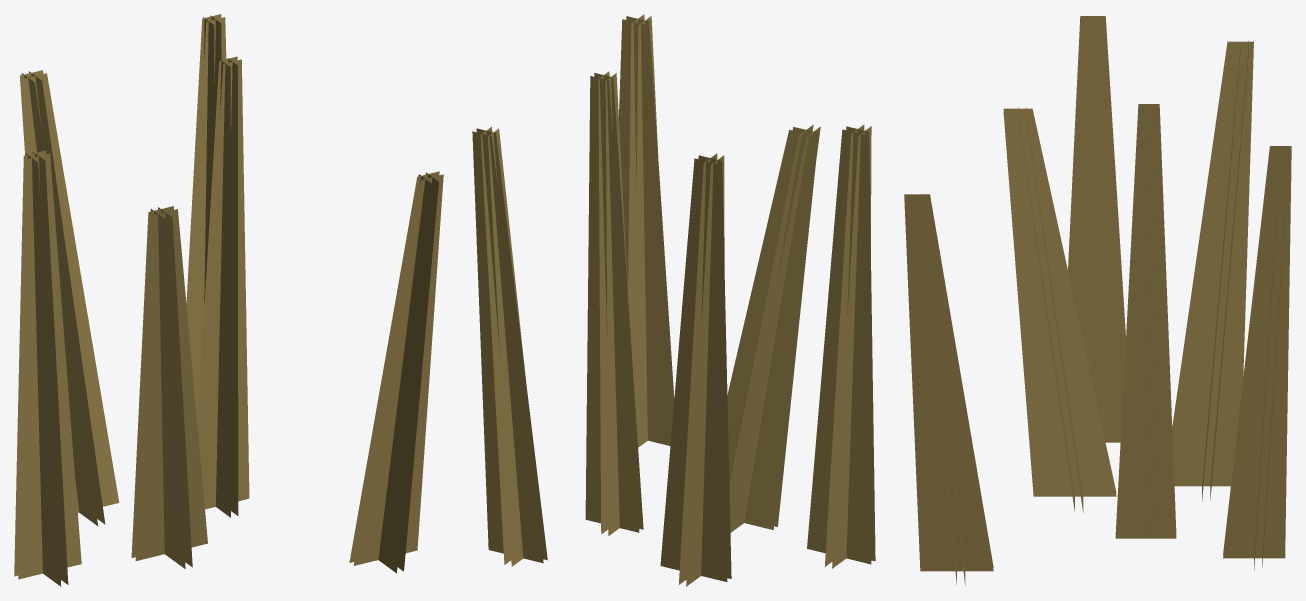
Rendered from grass_tuft_dry.glb.
The picture shows the model from 3 angles, left to right: view 1: azimuth 30°, elevation 25°; view 2: azimuth 150°, elevation 25°; view 3: azimuth 270°, elevation 25°; orthographic projection. The views are drawn at different scales.
Visible parts, largest first — view 1: grass_tuft_dry; view 2: grass_tuft_dry; view 3: grass_tuft_dry.
Part boxes in pixels (box(x1,y1,x2,y2)): grass_tuft_dry: box(14, 14, 443, 586); grass_tuft_dry: box(472, 14, 875, 586); grass_tuft_dry: box(904, 16, 1291, 585).
Bounding box in the file's own units: 0.2346 × 0.2938 × 0.2362.
